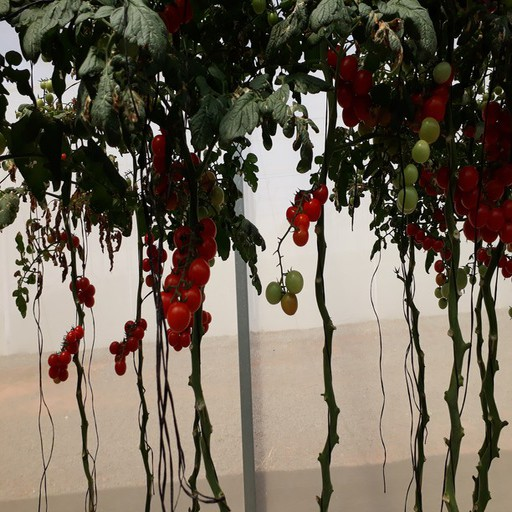green tomato bunch: (32, 76, 57, 115)
mixed tomato bunch: (397, 67, 458, 210), (403, 221, 465, 309), (152, 137, 224, 212)
red tomato bunch: (425, 160, 512, 245), (161, 218, 216, 334), (327, 45, 375, 126), (286, 179, 326, 246), (108, 318, 147, 377), (49, 323, 83, 383), (142, 223, 166, 289), (473, 248, 512, 278)
